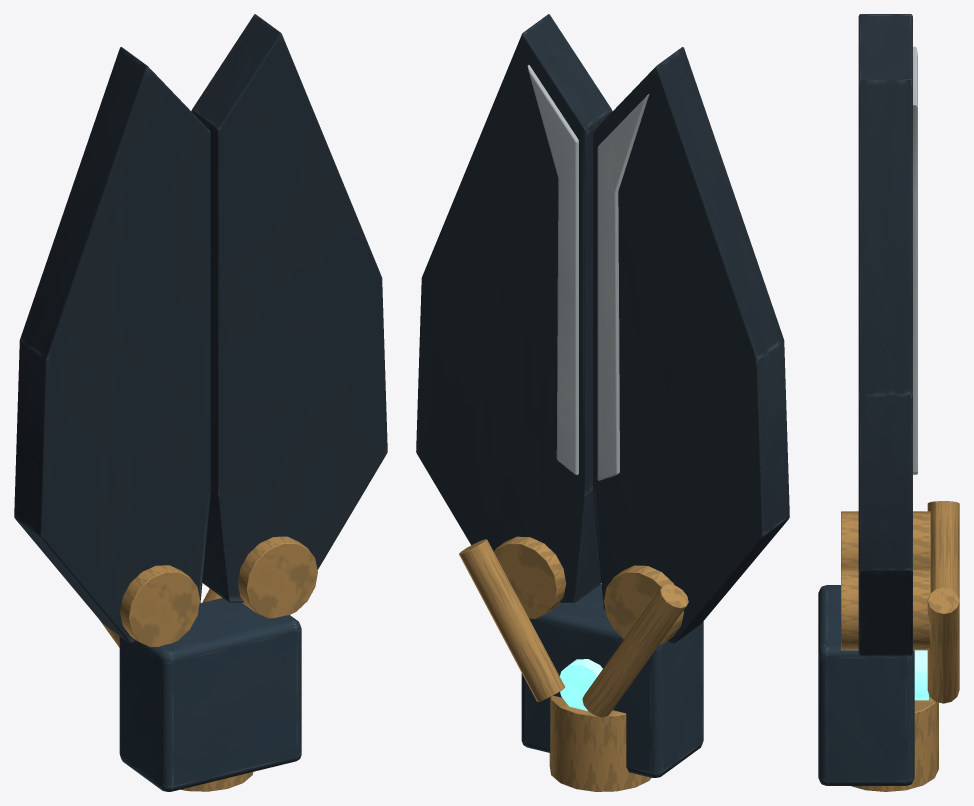
Rendered from broad_cutter.glb.
3 renders of one model, left to right at view 1: azimuth 30°, elevation 25°; view 2: azimuth 150°, elevation 25°; view 3: azimuth 270°, elevation 25°, orthographic.
Parts seen in each view (by area): view 1: broad_cutter__forged_jaw_neg1, broad_cutter__forged_jaw_1, broad_cutter__saddle, broad_cutter__jaw_axle_1, broad_cutter__jaw_axle_neg1; view 2: broad_cutter__forged_jaw_neg1, broad_cutter__forged_jaw_1, broad_cutter__saddle, broad_cutter__honed_edge_neg1, broad_cutter__honed_edge_1, broad_cutter__power_collar, broad_cutter__drive_link_1, broad_cutter__drive_link_neg1, broad_cutter__jaw_axle_1, broad_cutter__jaw_axle_neg1, broad_cutter__core; view 3: broad_cutter__forged_jaw_1, broad_cutter__saddle, broad_cutter__forged_jaw_neg1, broad_cutter__drive_link_1, broad_cutter__jaw_axle_1, broad_cutter__drive_link_neg1, broad_cutter__power_collar, broad_cutter__jaw_axle_neg1, broad_cutter__honed_edge_1, broad_cutter__core, broad_cutter__honed_edge_neg1.
Boxes of the visible parts, x1,y1,x2,y2 form: broad_cutter__forged_jaw_neg1: (14,47,210,643); broad_cutter__forged_jaw_1: (191,14,387,602); broad_cutter__saddle: (119,598,301,791); broad_cutter__jaw_axle_1: (237,536,317,618); broad_cutter__jaw_axle_neg1: (120,565,200,647); broad_cutter__forged_jaw_neg1: (593,47,789,643); broad_cutter__forged_jaw_1: (416,14,612,602); broad_cutter__saddle: (521,584,703,777); broad_cutter__honed_edge_neg1: (597,94,649,480); broad_cutter__honed_edge_1: (527,65,578,475); broad_cutter__power_collar: (549,695,651,791); broad_cutter__drive_link_1: (459,539,564,701); broad_cutter__drive_link_neg1: (582,584,688,717); broad_cutter__jaw_axle_1: (494,536,566,618); broad_cutter__jaw_axle_neg1: (603,565,683,644); broad_cutter__core: (560,659,602,710); broad_cutter__forged_jaw_1: (858,79,912,655); broad_cutter__saddle: (818,585,914,785); broad_cutter__forged_jaw_neg1: (858,14,912,80); broad_cutter__drive_link_1: (927,587,959,703); broad_cutter__jaw_axle_1: (841,568,930,650); broad_cutter__drive_link_neg1: (927,501,959,600); broad_cutter__power_collar: (851,695,938,791); broad_cutter__jaw_axle_neg1: (841,511,930,568); broad_cutter__honed_edge_1: (913,104,917,474); broad_cutter__core: (914,650,928,700); broad_cutter__honed_edge_neg1: (913,46,917,109).
Size of the model in its own units: 0.6198 by 1.24 by 0.22.
2 materials, 2 textured.
